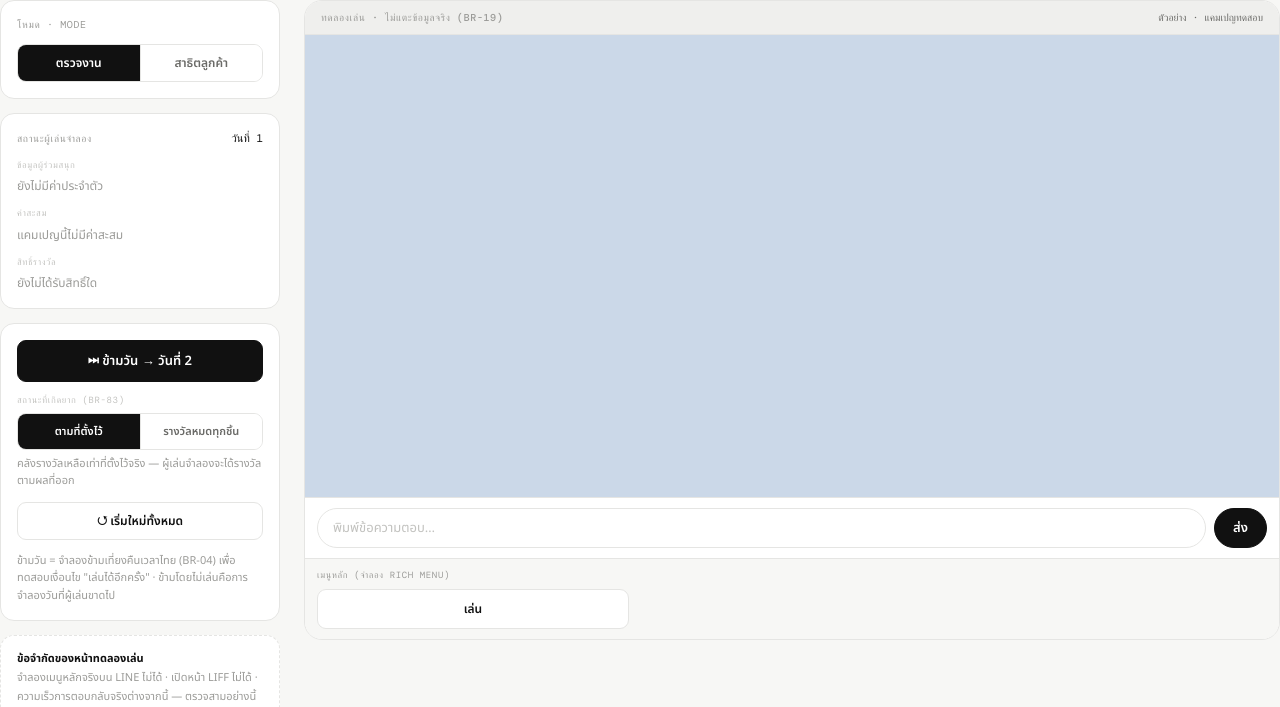
Scenario: ปุ่มข้ามวัน › กดแล้วป้ายวันขยับ และปุ่มชี้ไปวันถัดไป
Click the button "⏭ ข้ามวัน → วันที่ 2".
click(140, 361)  # box [17, 340, 263, 382]
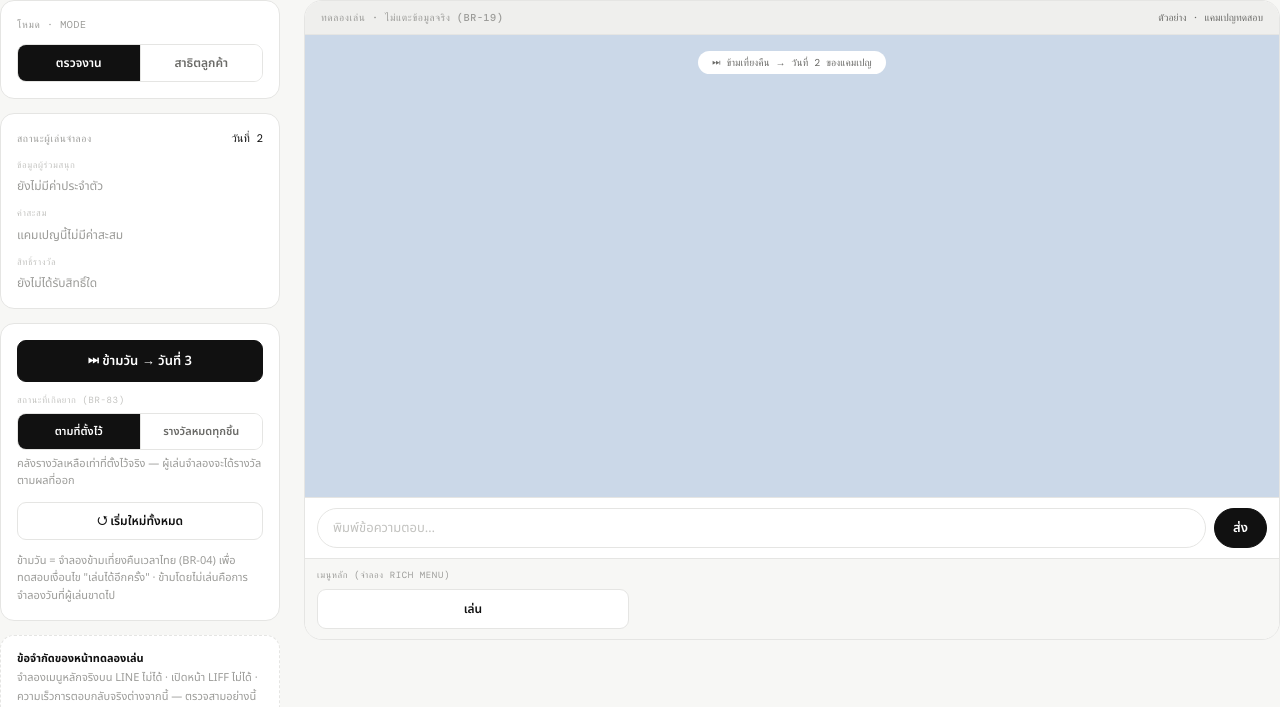
Check: the text "วันที่ 2" is shown, box [232, 130, 263, 146]
Check: the button "⏭ ข้ามวัน → วันที่ 3" is shown, box [17, 340, 263, 382]
